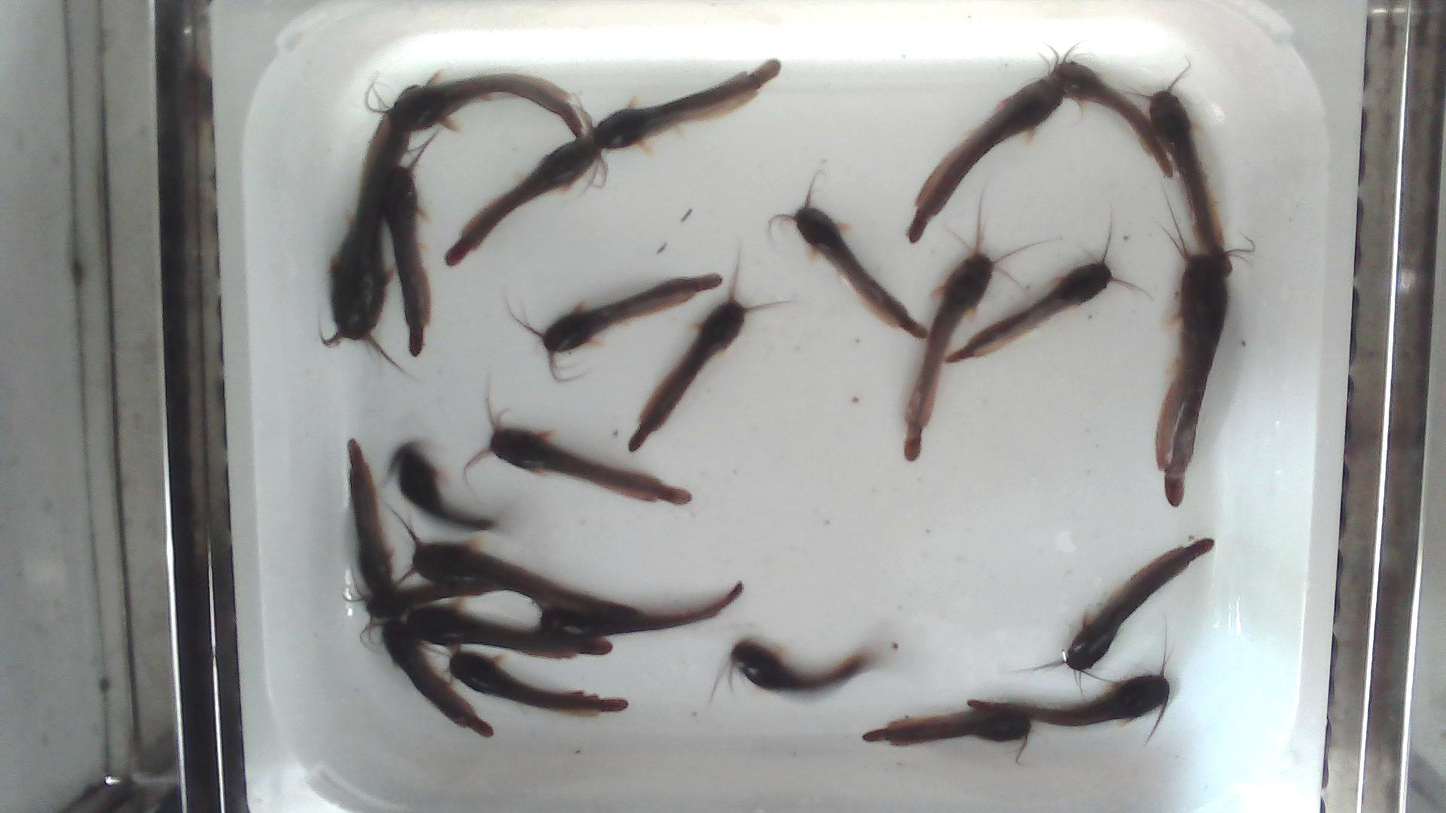lele: (903, 202, 1053, 461), (948, 211, 1152, 361), (629, 258, 781, 451), (1024, 538, 1213, 690), (389, 508, 642, 619), (906, 73, 1063, 248), (462, 386, 690, 504), (770, 181, 926, 338), (318, 112, 411, 371), (1126, 57, 1233, 277), (1156, 186, 1228, 507), (511, 274, 722, 379), (967, 642, 1171, 744), (447, 136, 599, 267), (1055, 31, 1172, 181), (594, 57, 782, 149), (359, 621, 493, 736), (393, 66, 590, 139), (380, 127, 441, 359), (532, 579, 745, 638), (450, 650, 628, 713), (409, 605, 616, 659), (340, 565, 490, 633), (345, 435, 406, 594), (391, 443, 493, 530), (731, 639, 873, 692), (863, 710, 1031, 745)
